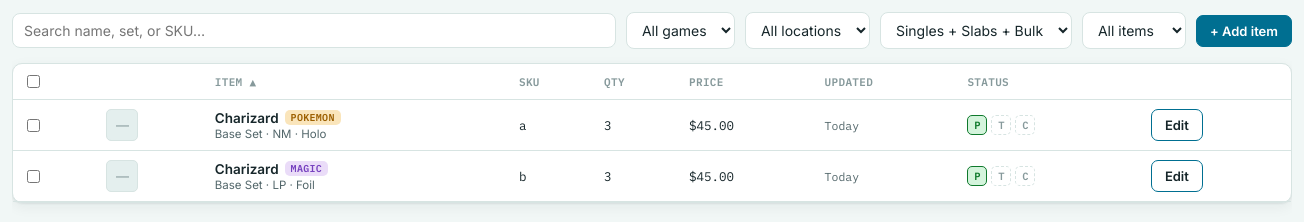
it: CatalogPanel — Rarity/Condition/Printing filters › shows filters scoped to the selected game's own real values once a game is picked
This screenshot has width=1304, height=222.
Select "Pokemon" in the 1st dropdown showing "All games" at (680, 30), box top-left (626, 12), bottom-right (735, 49)
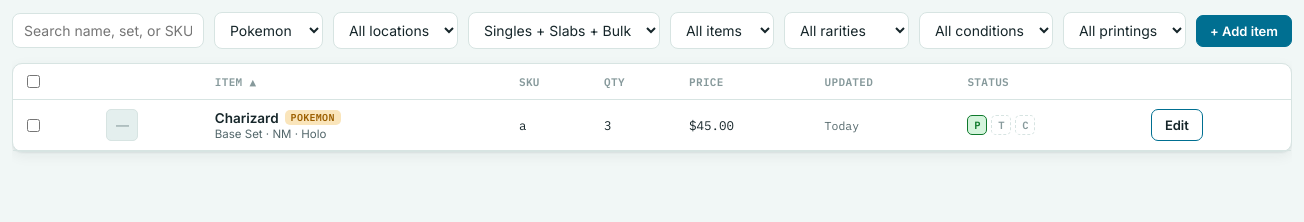
Now the text "LP" is gone
Now the text "Foil" is gone
